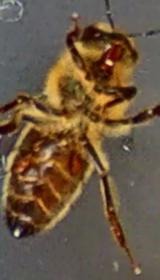varroa_mite: (10, 133, 42, 178), (66, 140, 92, 187)
